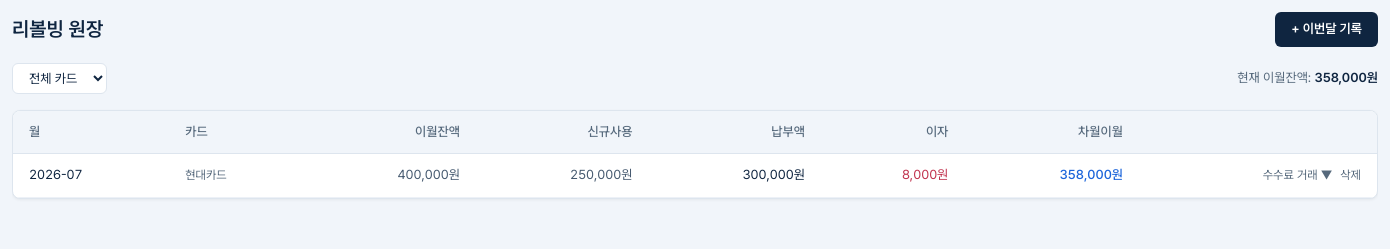
Scenario: 수수료 거래 펼치기 › 다시 누르면 접는다
Click the button "수수료 거래 ▼".
click(1298, 175)  # box top-left (1263, 167), bottom-right (1332, 183)
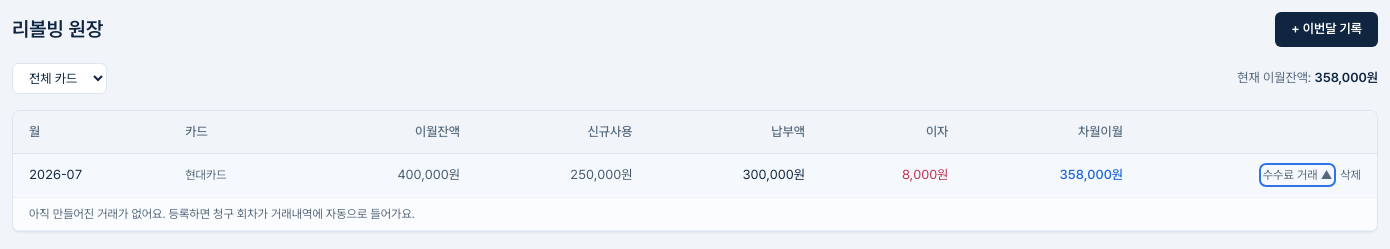
expect the button "수수료 거래 ▲" is expanded: met
Click the button "수수료 거래 ▲".
click(1298, 175)  # box top-left (1263, 167), bottom-right (1332, 183)
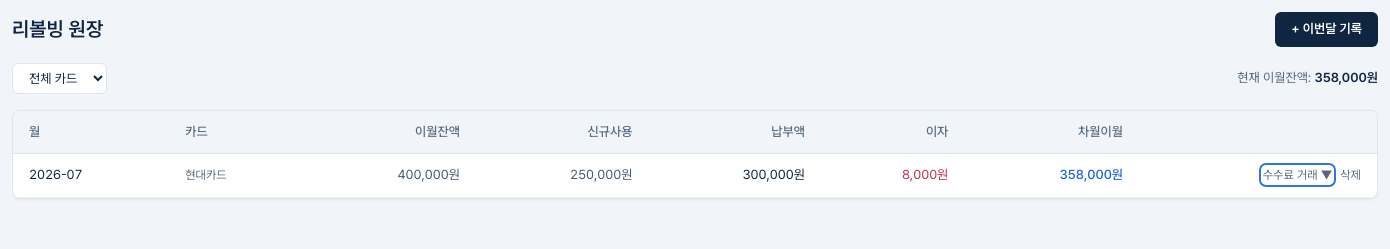
expect the button "수수료 거래 ▼" is collapsed: met, box top-left (1263, 167), bottom-right (1332, 183)
